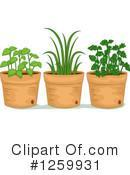pottedplant: (41, 24, 86, 111), (85, 36, 127, 109), (1, 45, 41, 110)
